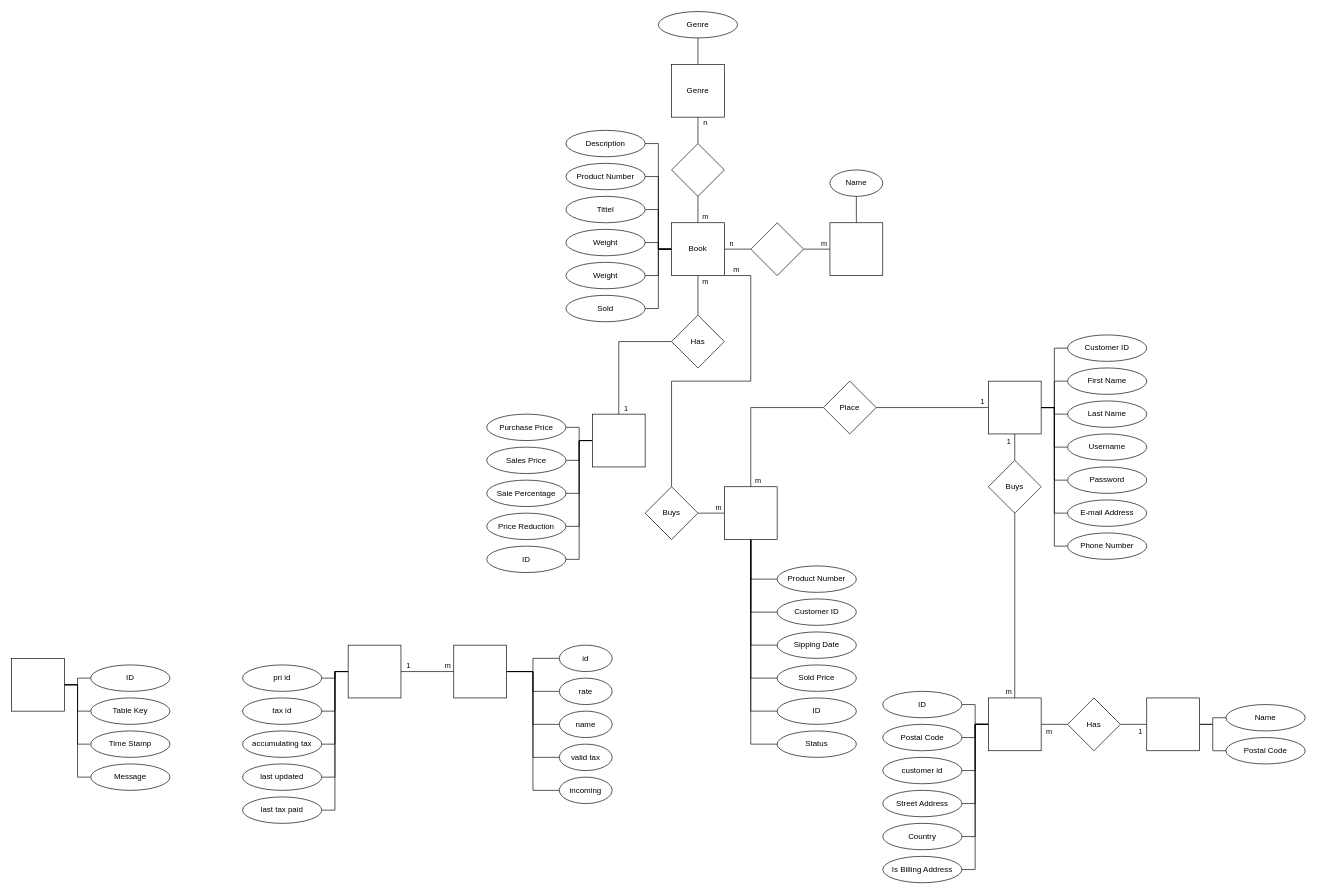
This 1317x894 diagram has some shape labels left out. The centre of each missing label's shape, as x and y in pixels:
Adress: the point at 1014,724
Author: the point at 856,249
bogreden log: the point at 37,684
City: the point at 1173,724
Have: the point at 697,169
Order: the point at 750,513
Pricing: the point at 618,440
Tax: the point at 480,671
Taxes: the point at 374,671
User: the point at 1014,407
Write: the point at 777,249
